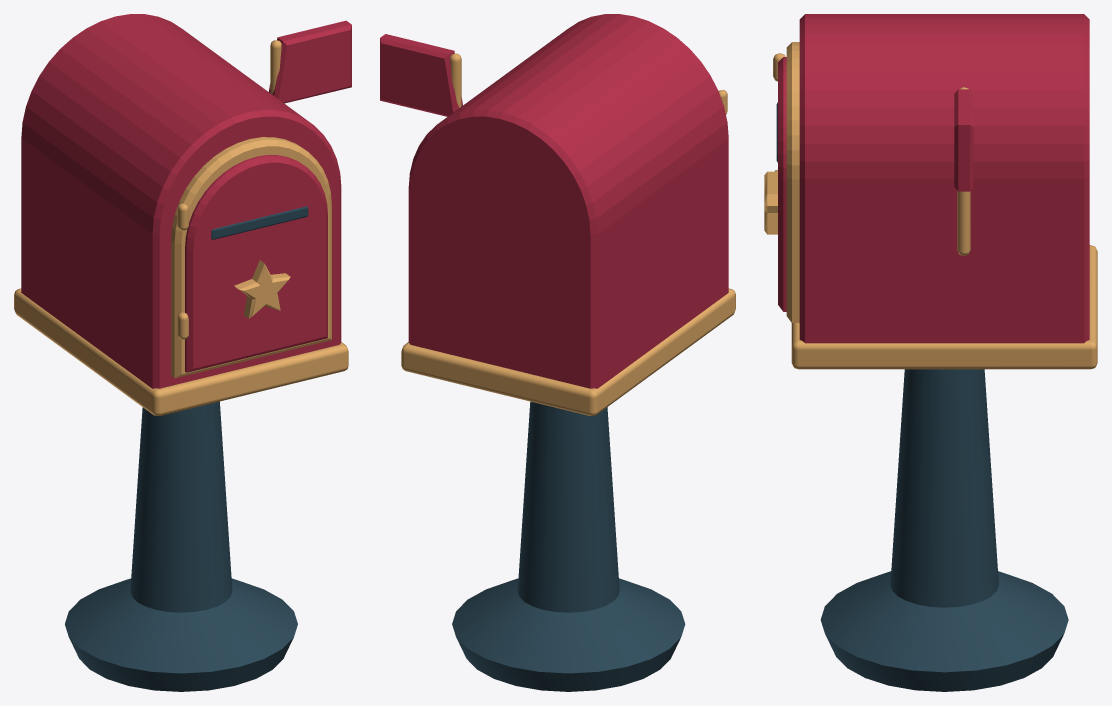
Rendered from storybook-christmas-market-letters-to-santa-mailbox-58aa921c__19697.glb.
The picture shows the model from 3 angles, left to right: view 1: azimuth 30°, elevation 25°; view 2: azimuth 150°, elevation 25°; view 3: azimuth 270°, elevation 25°; orthographic projection. The views are drawn at different scales.
Parts seen in each view (by area): view 1: letters-to-santa-mailbox; view 2: letters-to-santa-mailbox; view 3: letters-to-santa-mailbox.
Boxes of the visible parts, left/top/right/bottom form: letters-to-santa-mailbox: left=14, top=14, right=351, bottom=691; letters-to-santa-mailbox: left=380, top=14, right=735, bottom=691; letters-to-santa-mailbox: left=764, top=14, right=1097, bottom=691.
Bounding box in the file's own units: 0.88 × 1.76 × 0.8605.
